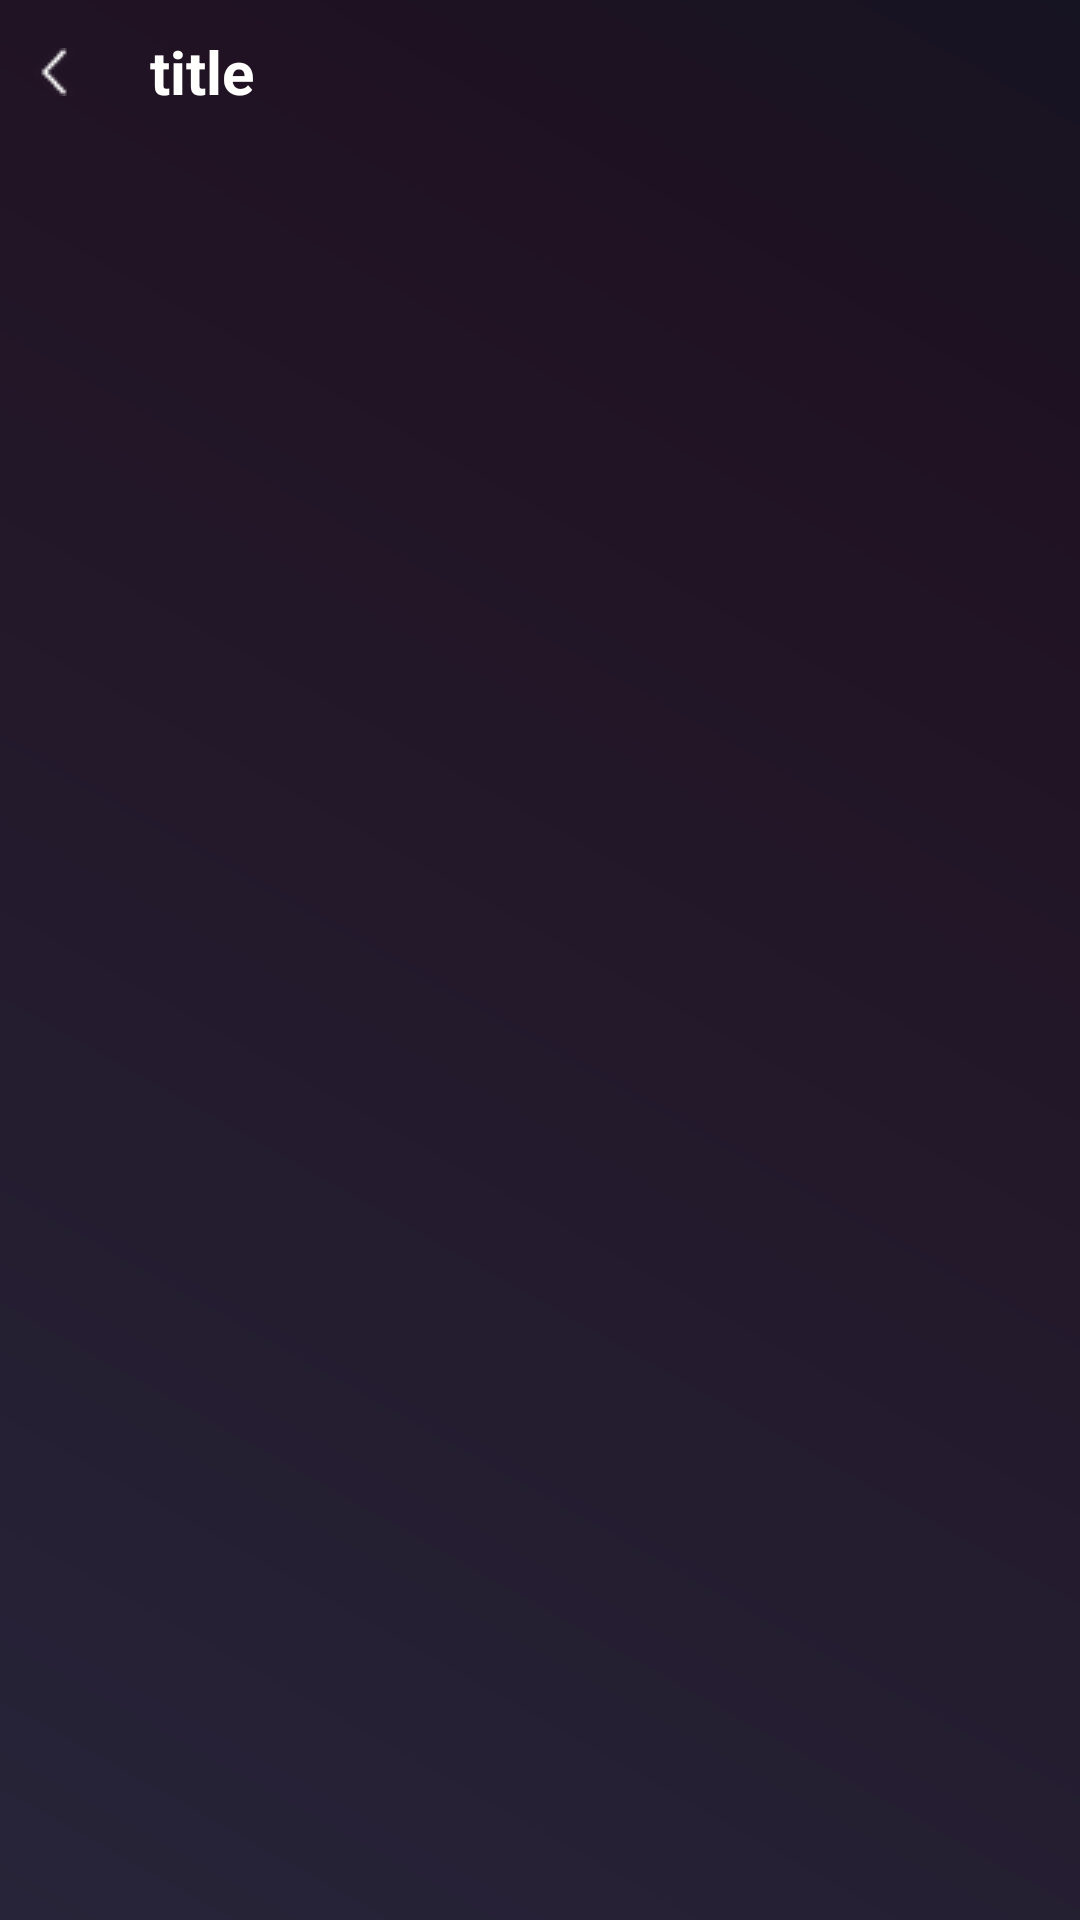

Icons on this 1080 x 1920 Android screen, each with its box as box(x1, y1, x2, y2):
arrowleft: box(41, 48, 67, 96)
